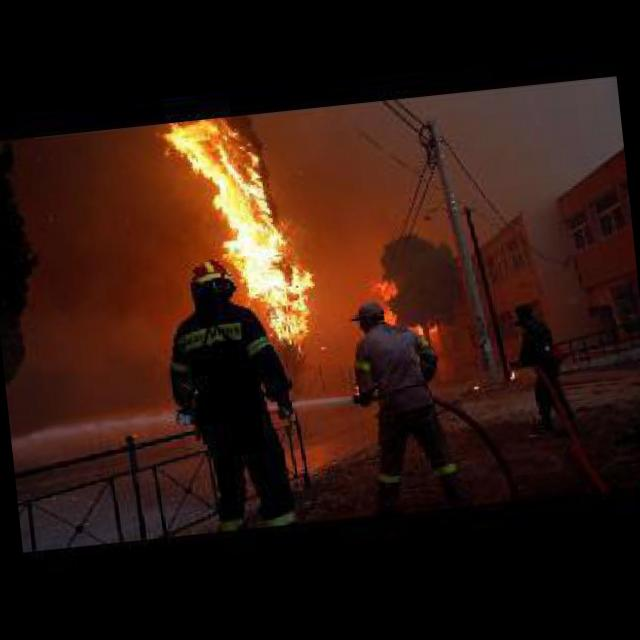fire: (230, 113, 326, 347), (156, 118, 245, 254), (366, 263, 441, 345)
